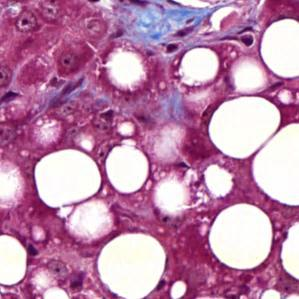steatosis: (204, 202, 274, 270), (23, 147, 104, 204), (104, 146, 154, 195)
